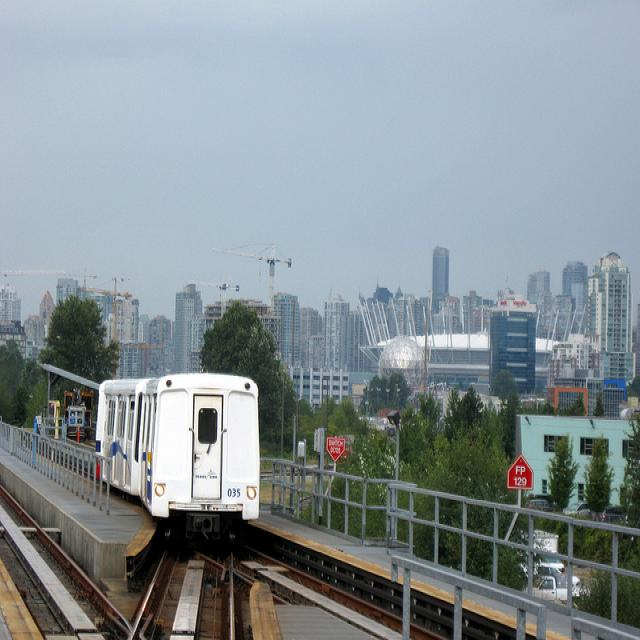Vehicle: (531, 565, 568, 601)
